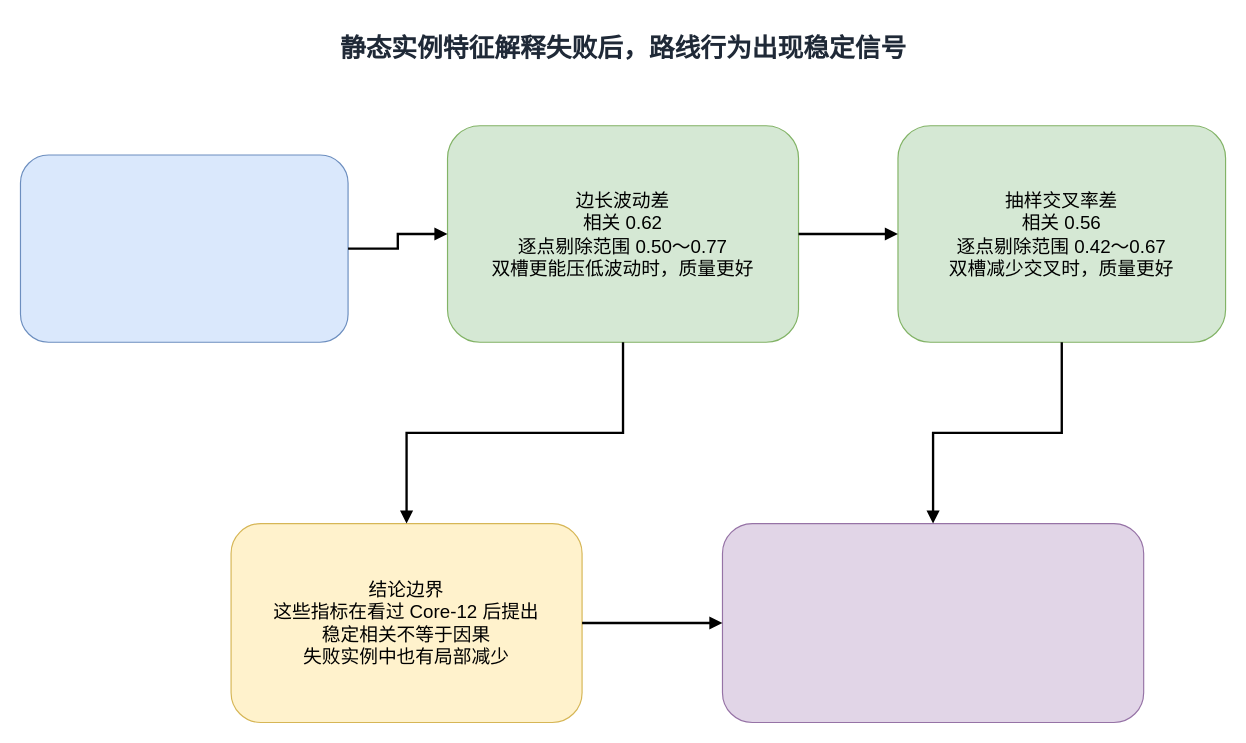
Some shapes in this 1246 by 743 pixel diagram are drawn without their labels. Here are the shapes that lost their labels. From the top down, the box of each, then its label:
(19, 154, 348, 342): 确定性重放 6 条冻结代码 × Core-12 72/72 路线成本与 Stage BD 完全一致
(721, 522, 1144, 722): 下一步：未见真实实例确认 冻结额外 TSPLIB EUC_2D 实例 先锁定来源与清单，再评估路线质量和行为关系
